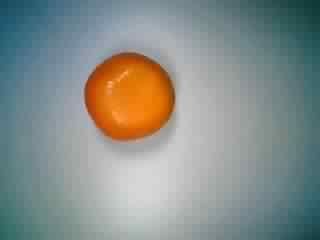orange: (78, 47, 179, 144)
